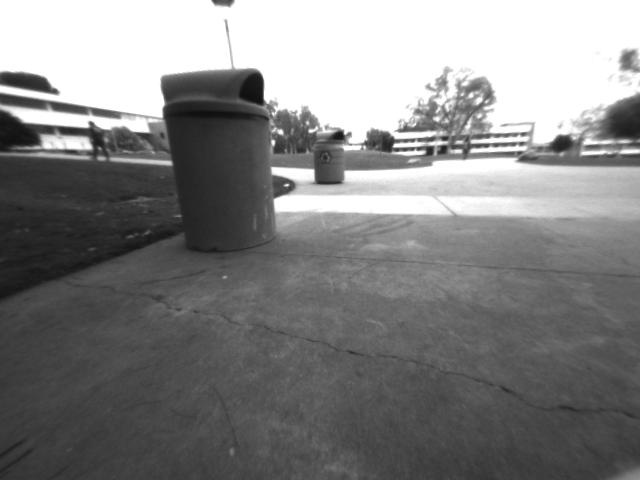trashcan: (143, 62, 297, 257)
